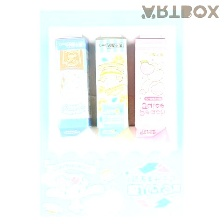carton: (133, 31, 177, 151), (52, 33, 96, 149), (93, 31, 135, 150)
